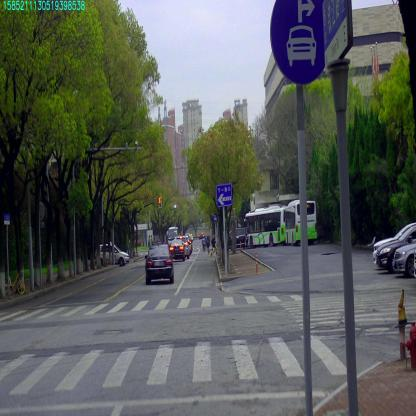traffic-light: (158, 196, 161, 208)
